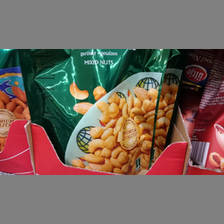nuts: (17, 50, 171, 174)
